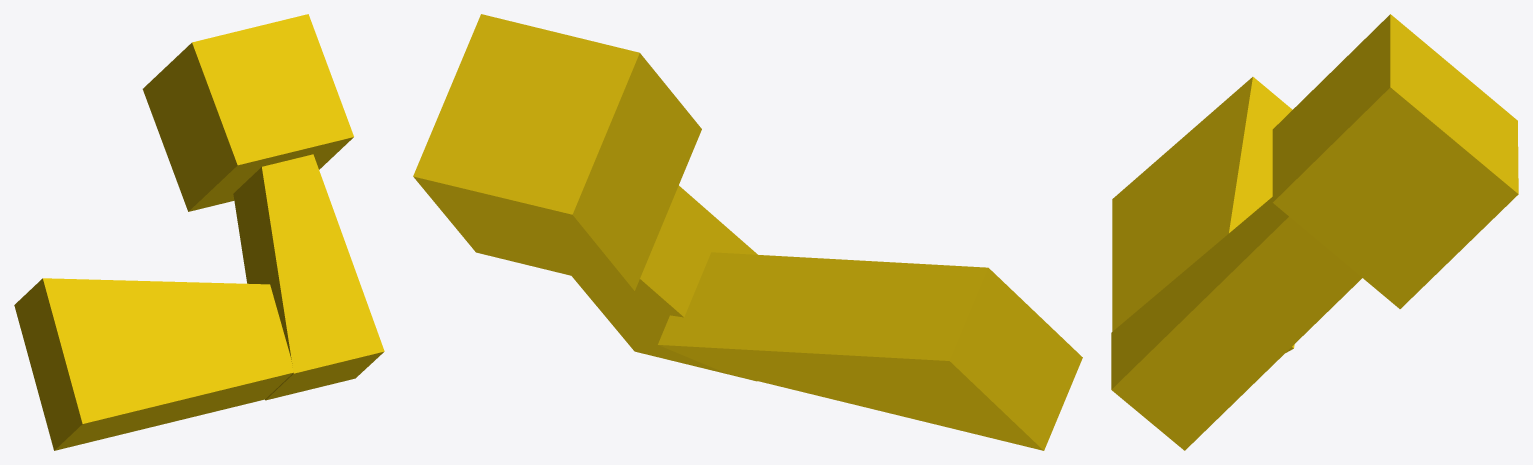
Rendered from armPower.fbx.
3 renders of one model, left to right at view 1: azimuth 30°, elevation 25°; view 2: azimuth 150°, elevation 25°; view 3: azimuth 270°, elevation 25°, orthographic. The views are drawn at different scales.
Visible parts, largest first — view 1: ArmPower; view 2: ArmPower; view 3: ArmPower.
Part boxes in pixels (x1,y1,x2,y2): ArmPower: (14,14,384,450); ArmPower: (413,14,1082,450); ArmPower: (1111,14,1518,450).
Bounding box in the file's own units: 1.29 × 1.1 × 1.06.
